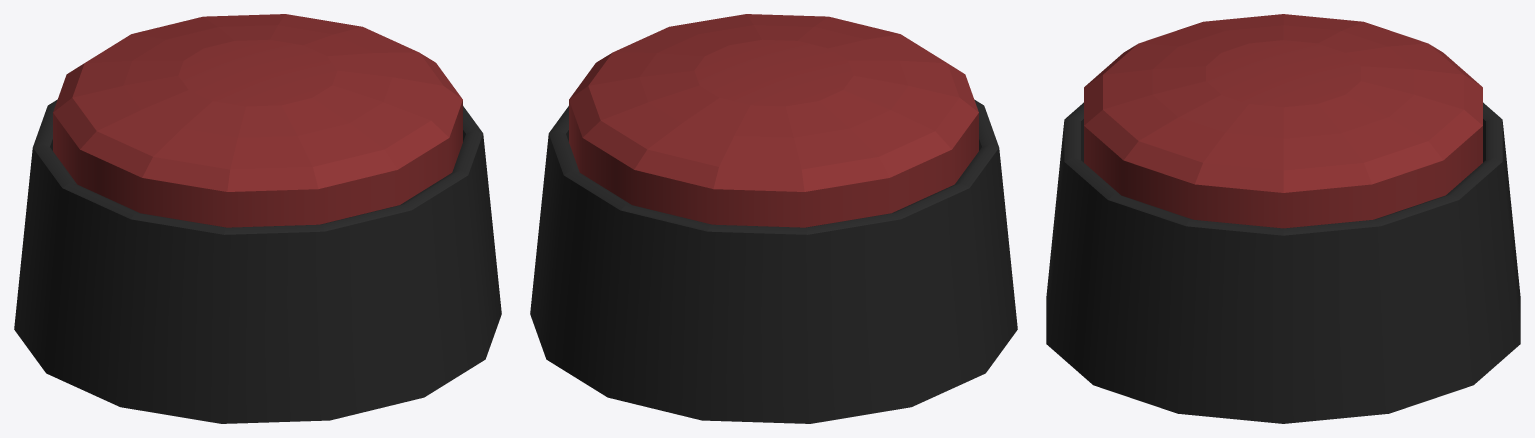
Rendered from Button.fbx.
3 views of the same model, side by side, from view 1: azimuth 30°, elevation 25°; view 2: azimuth 150°, elevation 25°; view 3: azimuth 270°, elevation 25° (orthographic).
Visible parts, largest first — view 1: pCylinder3; view 2: pCylinder3; view 3: pCylinder3.
Boxes of the visible parts, x1,y1,x2,y2 form: pCylinder3: [14, 14, 501, 423]; pCylinder3: [530, 14, 1017, 423]; pCylinder3: [1046, 14, 1520, 423].
Size of the model in its own units: 18.94 by 10.82 by 18.47.
